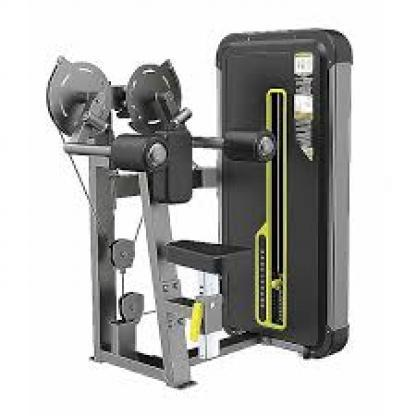lateral raises machine: (46, 23, 352, 391)
